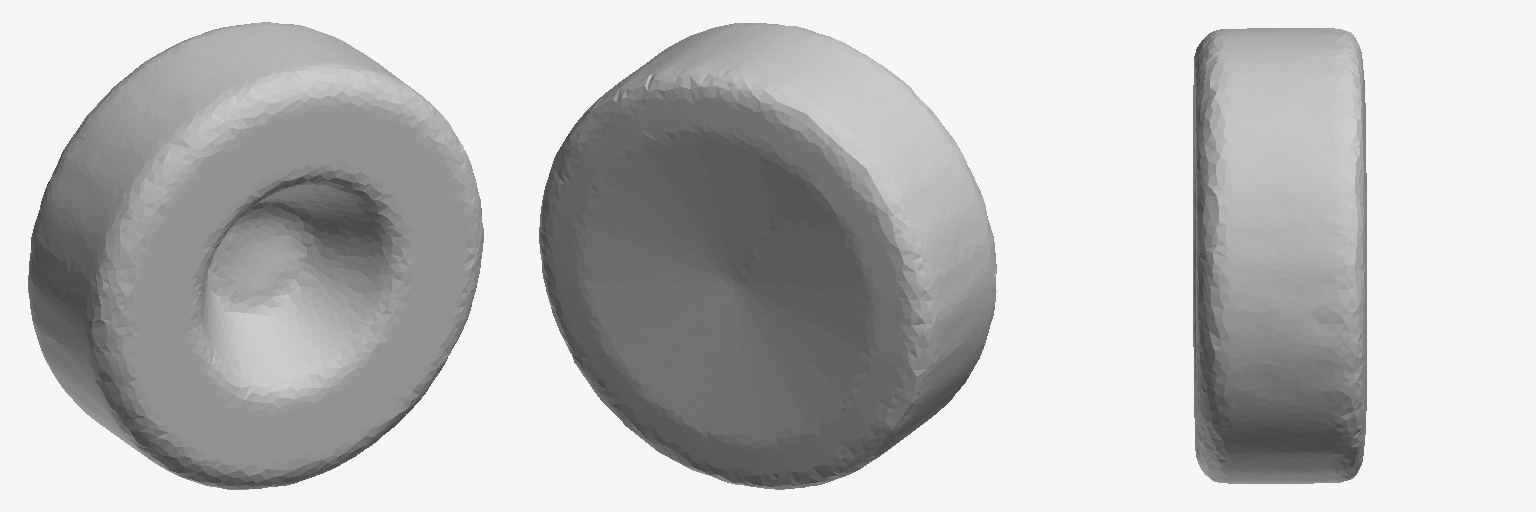
File: Amulet_July_Lobe_18.obj
The picture shows the model from 3 angles: view 1: azimuth 30°, elevation 25°; view 2: azimuth 150°, elevation 25°; view 3: azimuth 270°, elevation 25°; orthographic projection.
Size of the model in its own units: 18.04 by 17.99 by 6.88.